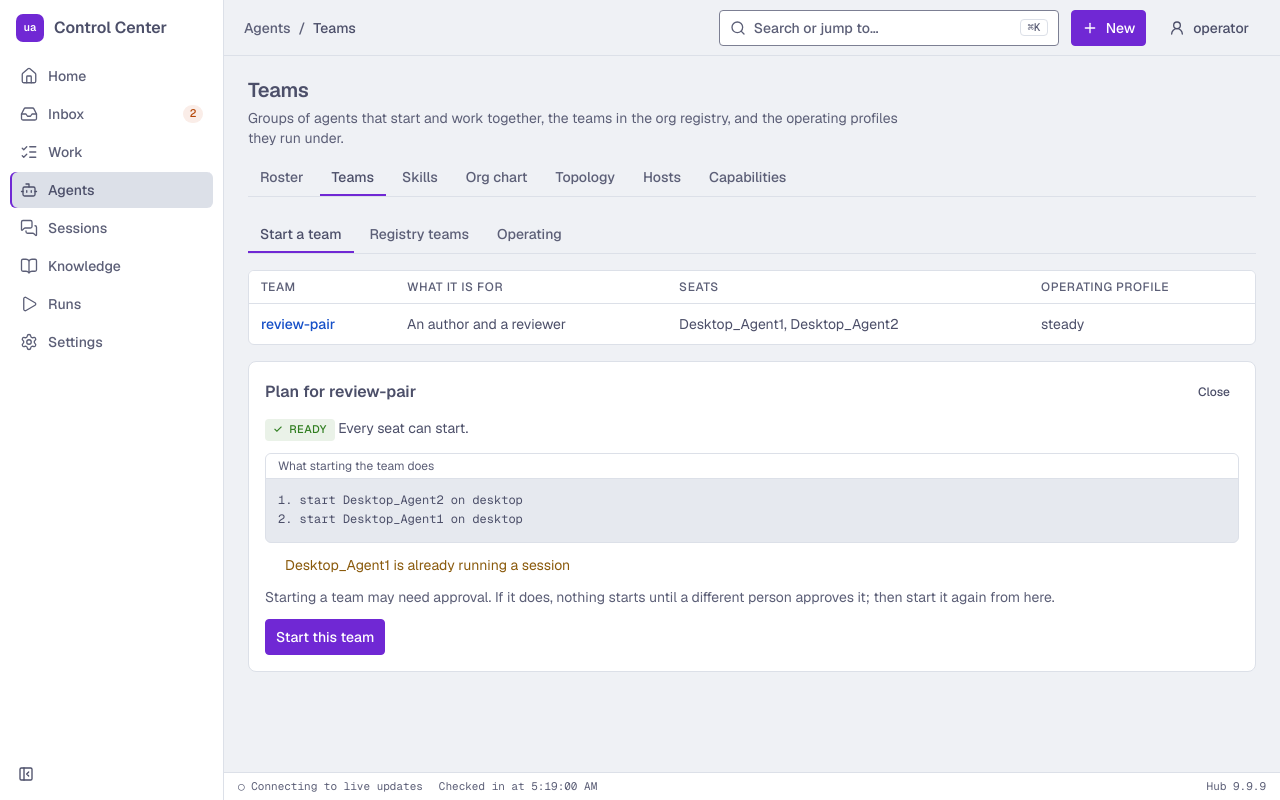
it: agents: teams › a parked team start explains the approval and stores nothing to replay
This screenshot has width=1280, height=800.
Click the button "Start this team": (325, 636) [265,618,385,654]
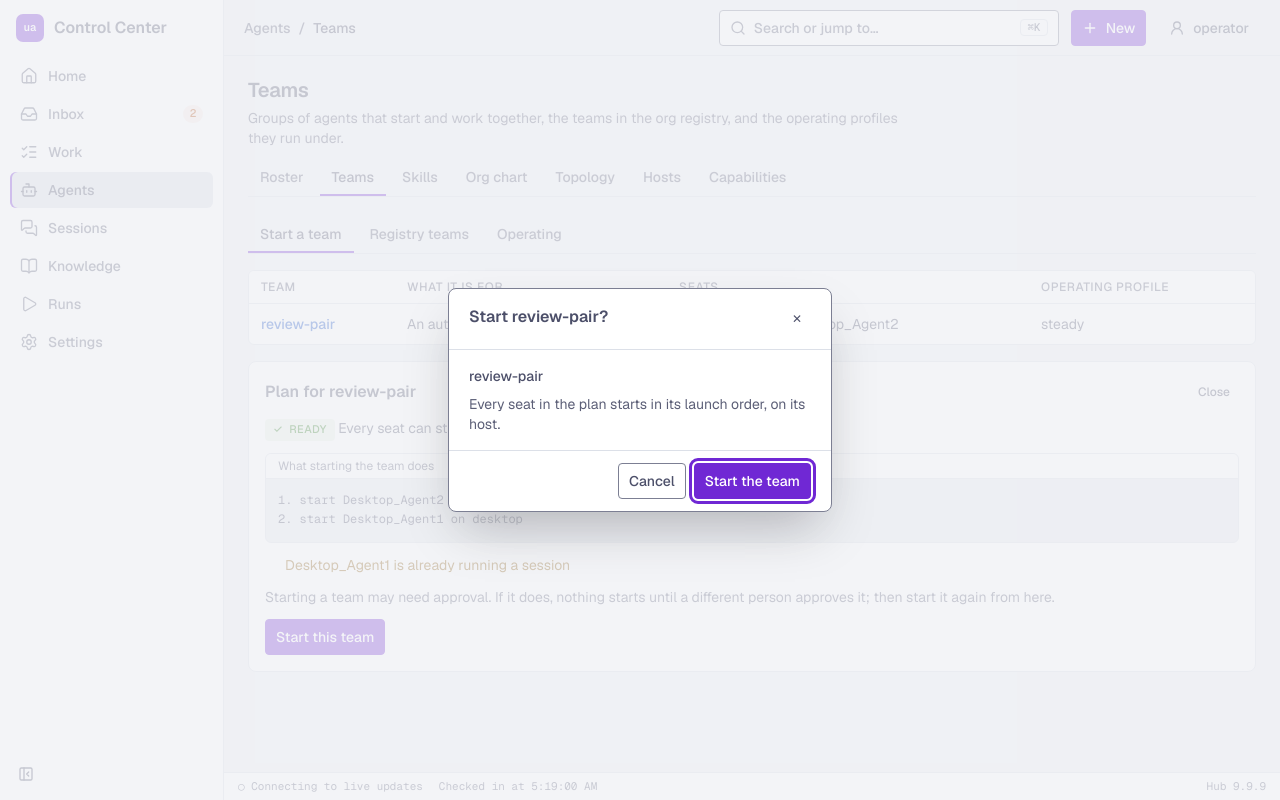
Click the button "Start the team": (752, 481) [694,463,811,499]
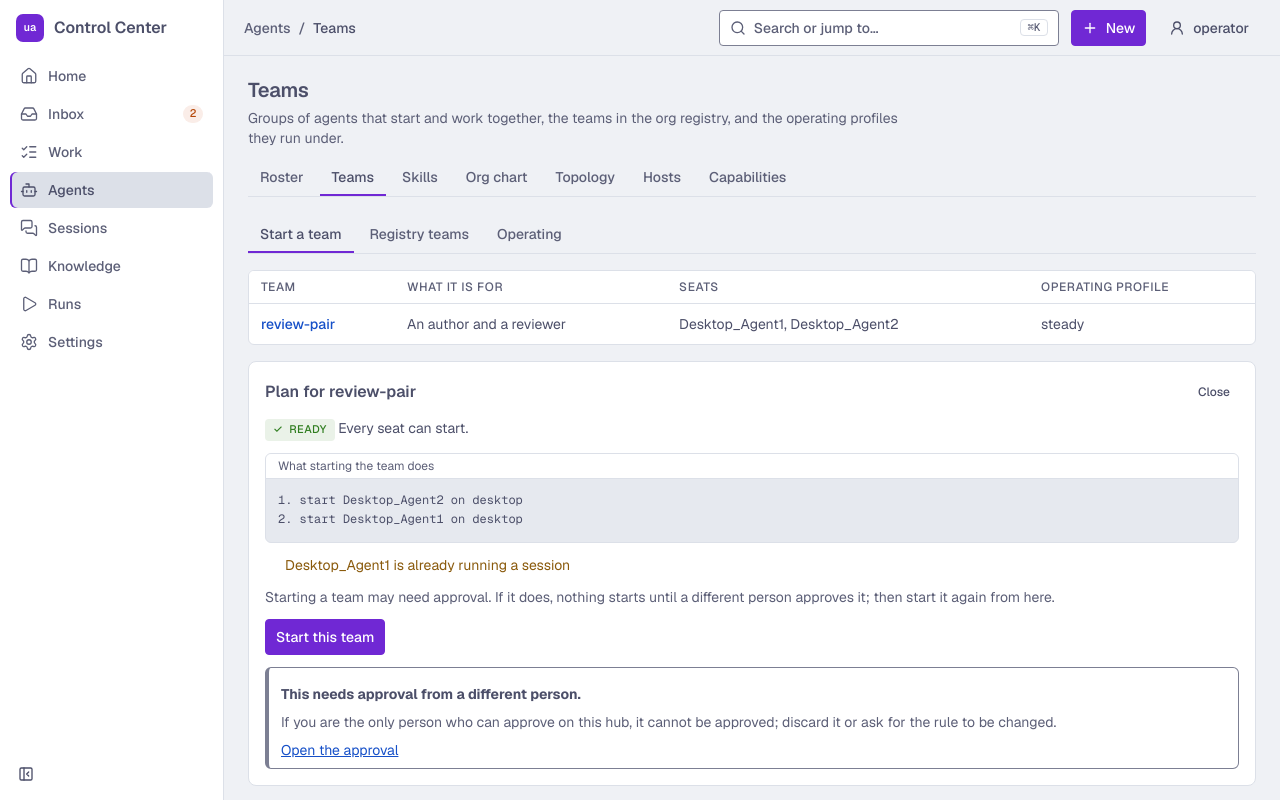
Now the element named "Approval status" is shown, box [265,666,1239,768]
